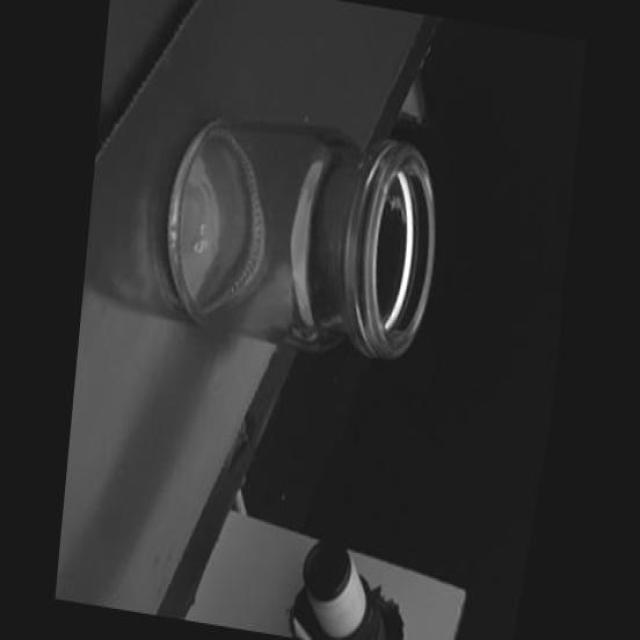defect: (354, 154, 368, 172)
glass: (143, 66, 459, 403)
